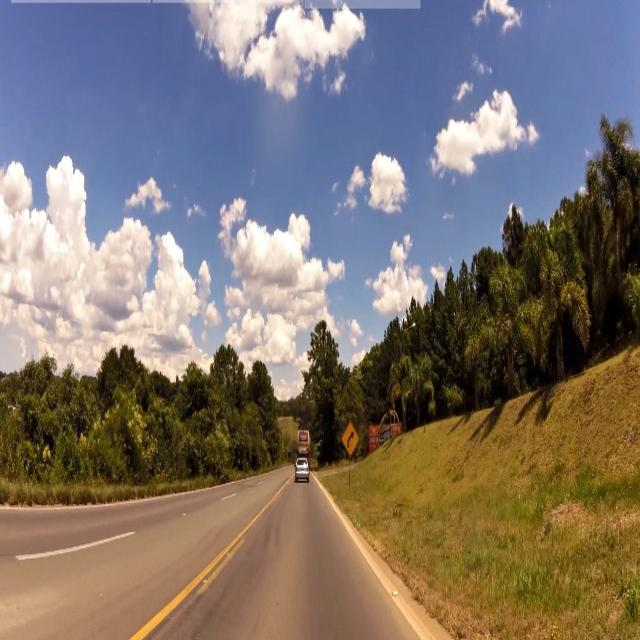A-2b: (343, 422, 360, 461)
